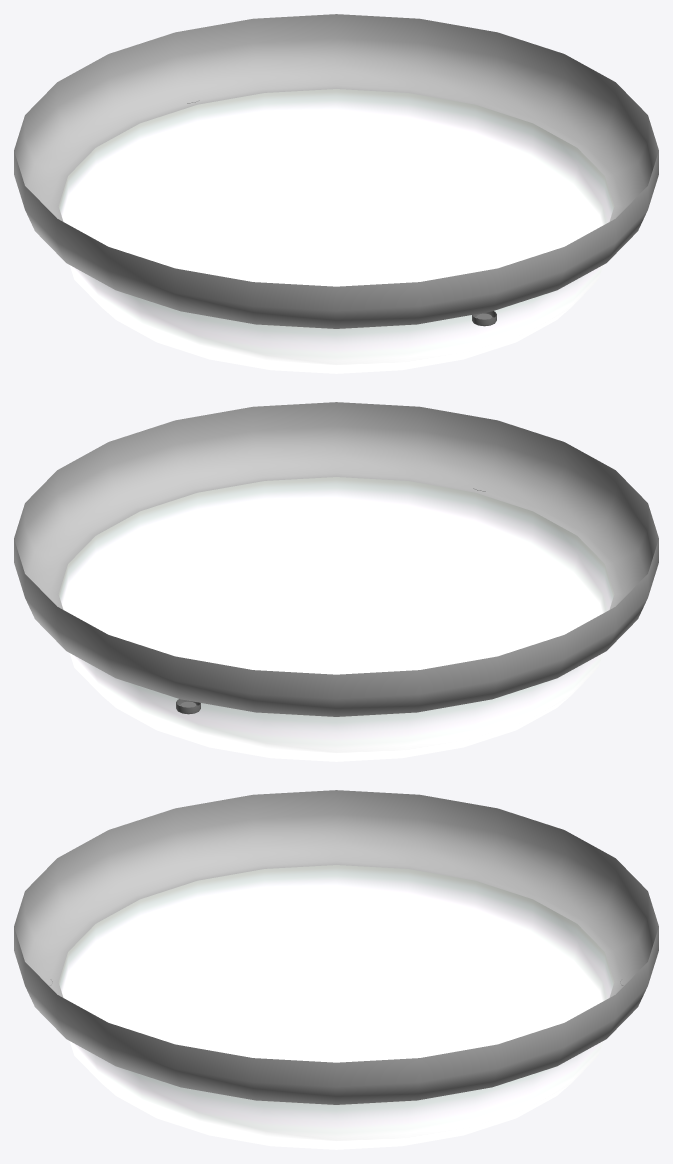
File: fbLamp1.fbx
3 views of the same model, one above another, from view 1: azimuth 30°, elevation 25°; view 2: azimuth 150°, elevation 25°; view 3: azimuth 270°, elevation 25° (orthographic).
Parts seen in each view (by area): view 1: Circle.007; view 2: Circle.007; view 3: Circle.007.
Part boxes in pixels (box(x1,y1,x2,y2)): Circle.007: box(14, 14, 658, 373); Circle.007: box(14, 402, 658, 761); Circle.007: box(14, 790, 658, 1149).
Size of the model in its own units: 49.43 by 11.53 by 49.43.
